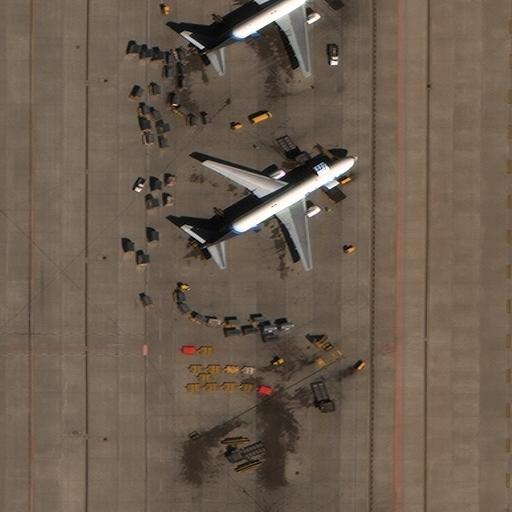Large Civil Transport: (199, 155, 358, 267), (201, 0, 342, 74)
